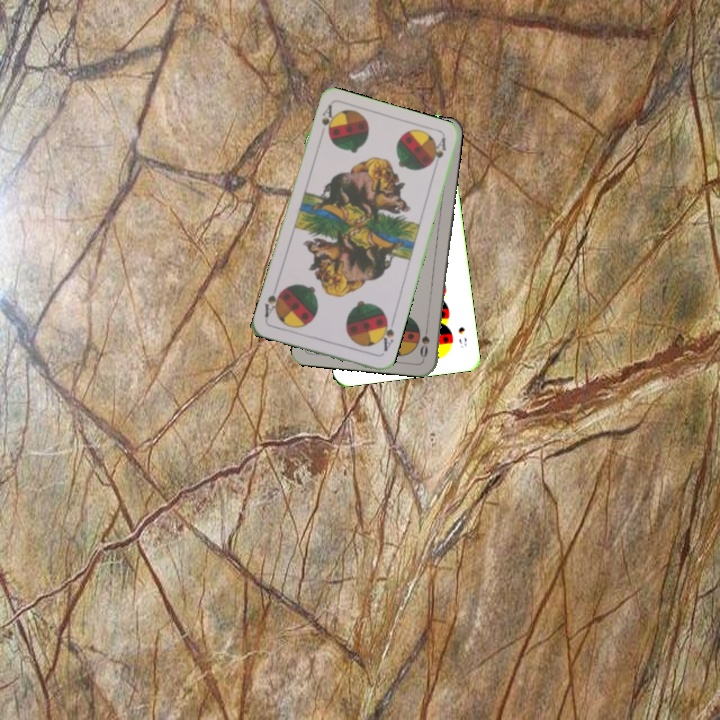S8: (454, 322, 470, 350)
SA: (375, 315, 397, 354), (318, 101, 337, 138)
SO: (416, 320, 432, 361)
